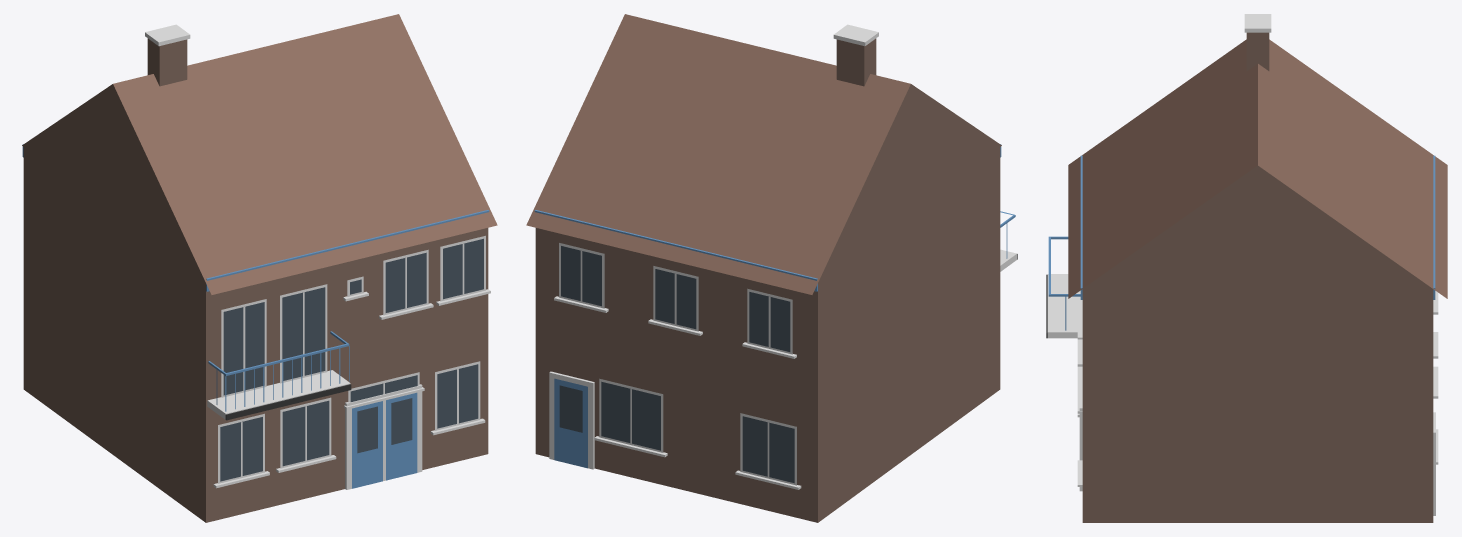
File: oo-ta-side__blue__2__gable__long__solid.glb
3 renders of one model, left to right at view 1: azimuth 30°, elevation 25°; view 2: azimuth 150°, elevation 25°; view 3: azimuth 270°, elevation 25°, orthographic. The views are drawn at different scales.
Parts seen in each view (by area): view 1: oo-ta-side__blue__2__gable__long__solid; view 2: oo-ta-side__blue__2__gable__long__solid; view 3: oo-ta-side__blue__2__gable__long__solid.
Boxes of the visible parts, x1=… form: oo-ta-side__blue__2__gable__long__solid: x1=22, y1=14, x2=497, y2=522; oo-ta-side__blue__2__gable__long__solid: x1=526, y1=14, x2=1017, y2=522; oo-ta-side__blue__2__gable__long__solid: x1=1046, y1=14, x2=1447, y2=522.
Size of the model in its own units: 7.69 by 10.53 by 9.72.
